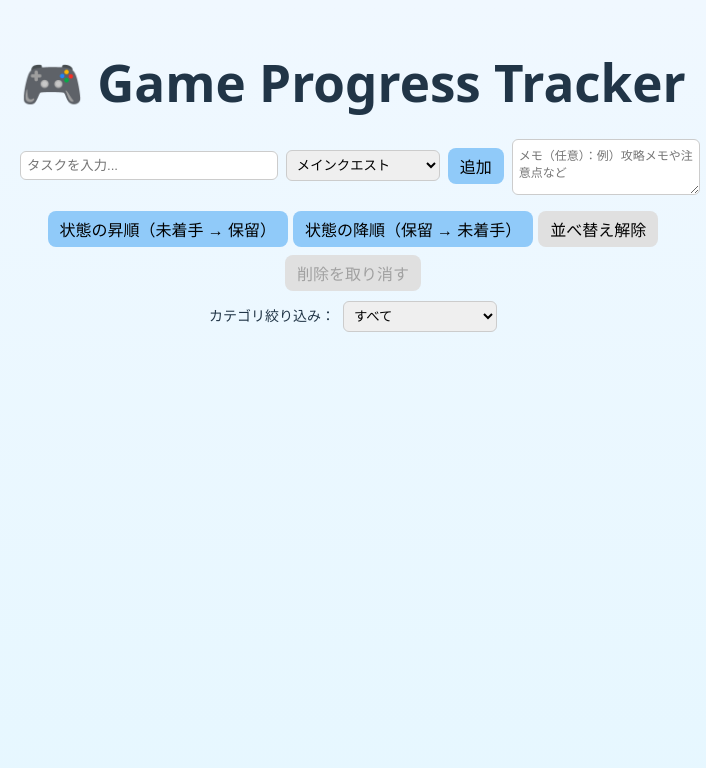
it: UI: タスク編集機能 › CASE1: 編集 → 保存 で名前が更新される
The image size is (723, 768).
Type "最初の名前" into the field with placeholder "タスクを入力...". click: (149, 166)
box: [20,151,278,180]
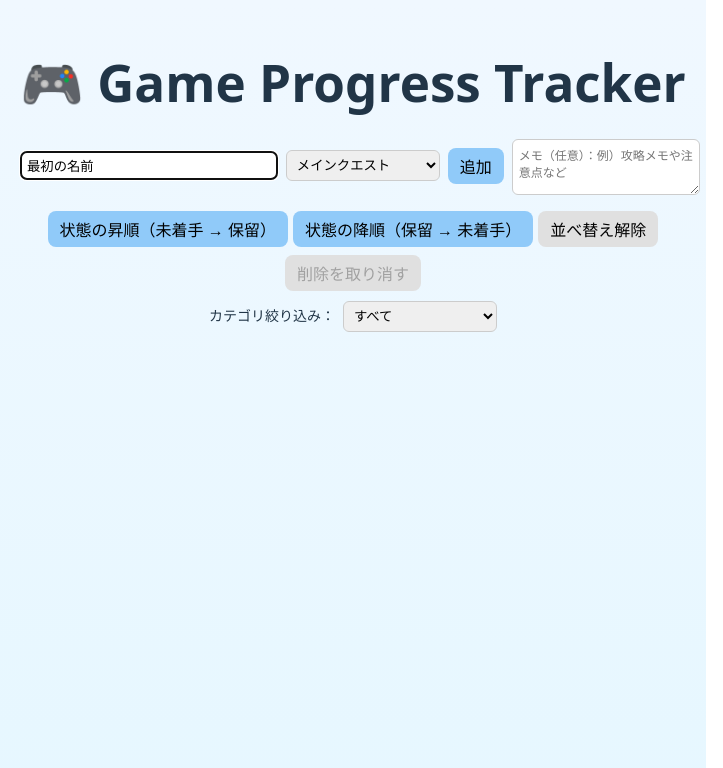
Click the button "追加". click: click(476, 166)
box: [448,148,504,184]
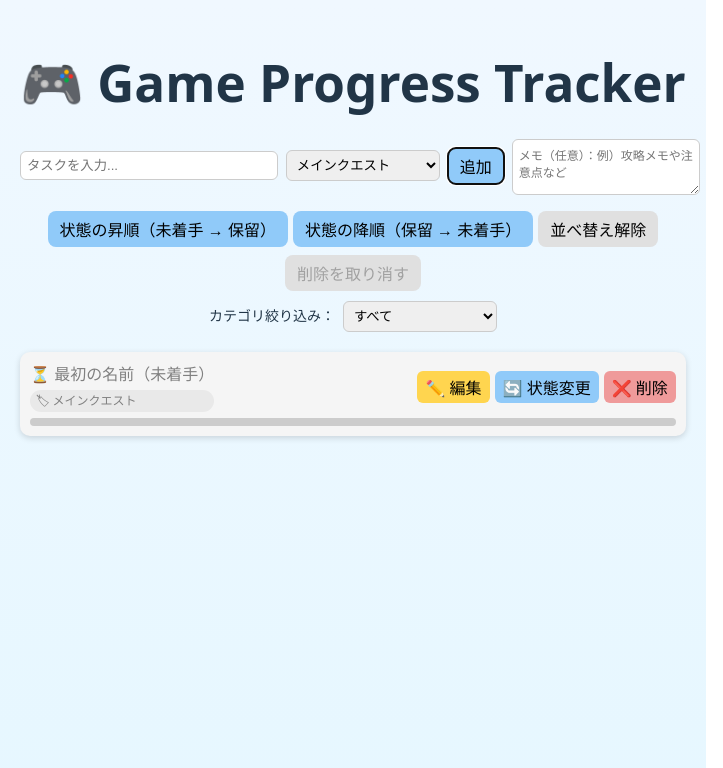
#  2. 編集開始
Click the button "✏️ 編集". click: click(453, 387)
box: [417,371,490,403]
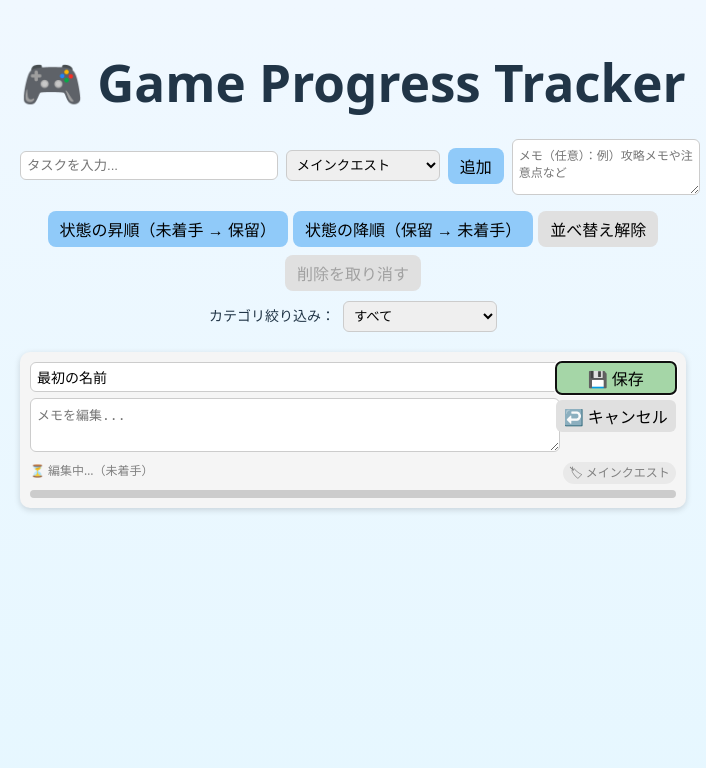
# 編集用 input を取得
Replace the text in the field showing "最初の名前" with "編集後の名前". click: (295, 377)
box: [30,362,560,392]
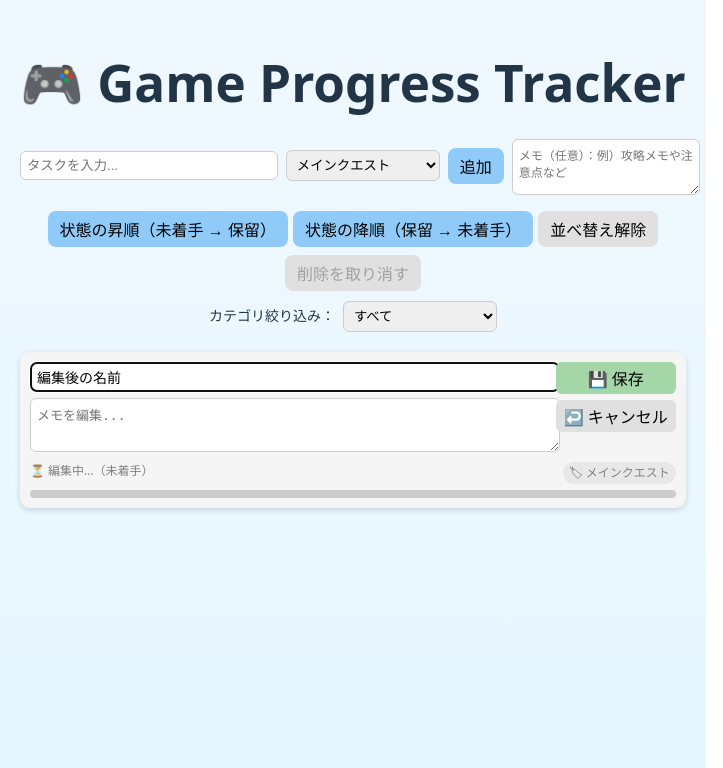
Click the button "💾 保存". click: click(616, 378)
box: [556,362,676,394]
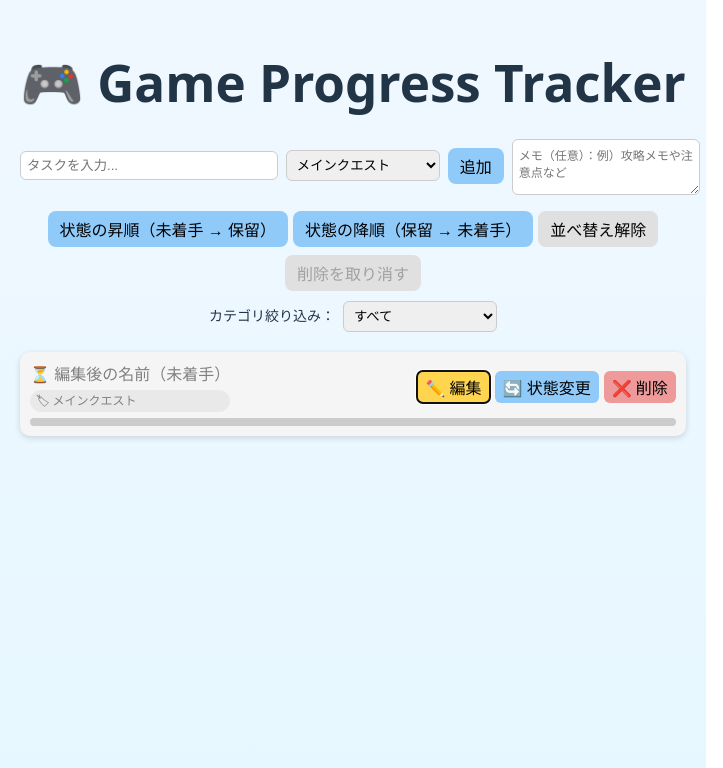
Result: the text "⏳ 編集後の名前（未着手）" is shown at [30,362,230,386]
